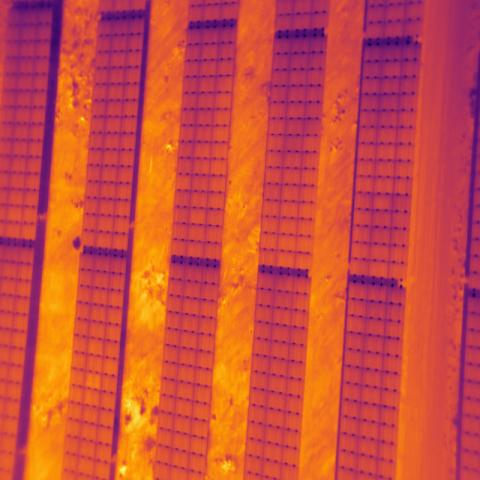fault: (85, 371, 101, 392)
